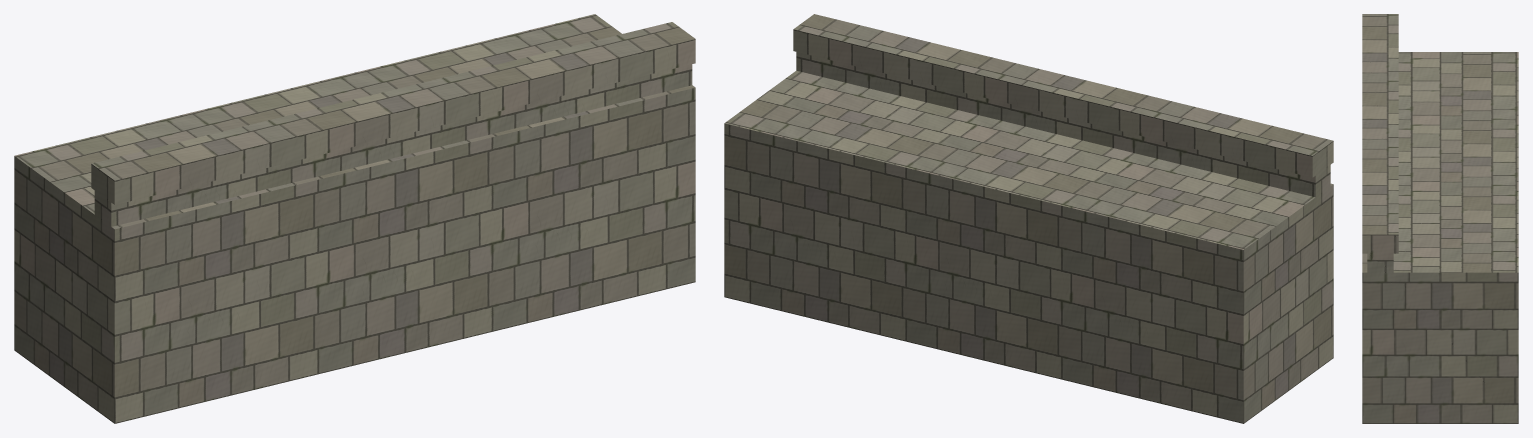
Rendered from Furn_Quay.fbx.
3 renders of one model, left to right at view 1: azimuth 30°, elevation 25°; view 2: azimuth 150°, elevation 25°; view 3: azimuth 270°, elevation 25°, orthographic. The views are drawn at different scales.
Parts seen in each view (by area): view 1: Furn_Quay_Mesh; view 2: Furn_Quay_Mesh; view 3: Furn_Quay_Mesh.
Part boxes in pixels (box(x1,y1,x2,y2)): Furn_Quay_Mesh: box(14, 14, 695, 423); Furn_Quay_Mesh: box(724, 14, 1333, 423); Furn_Quay_Mesh: box(1362, 14, 1518, 423).
Bounding box in the file's own units: 10 × 4 × 3.
